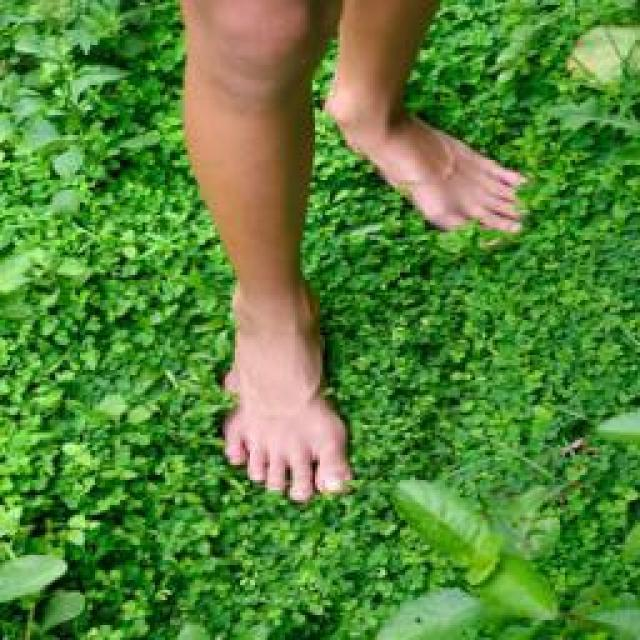No_Shoes: (312, 70, 565, 258), (189, 252, 372, 501)
